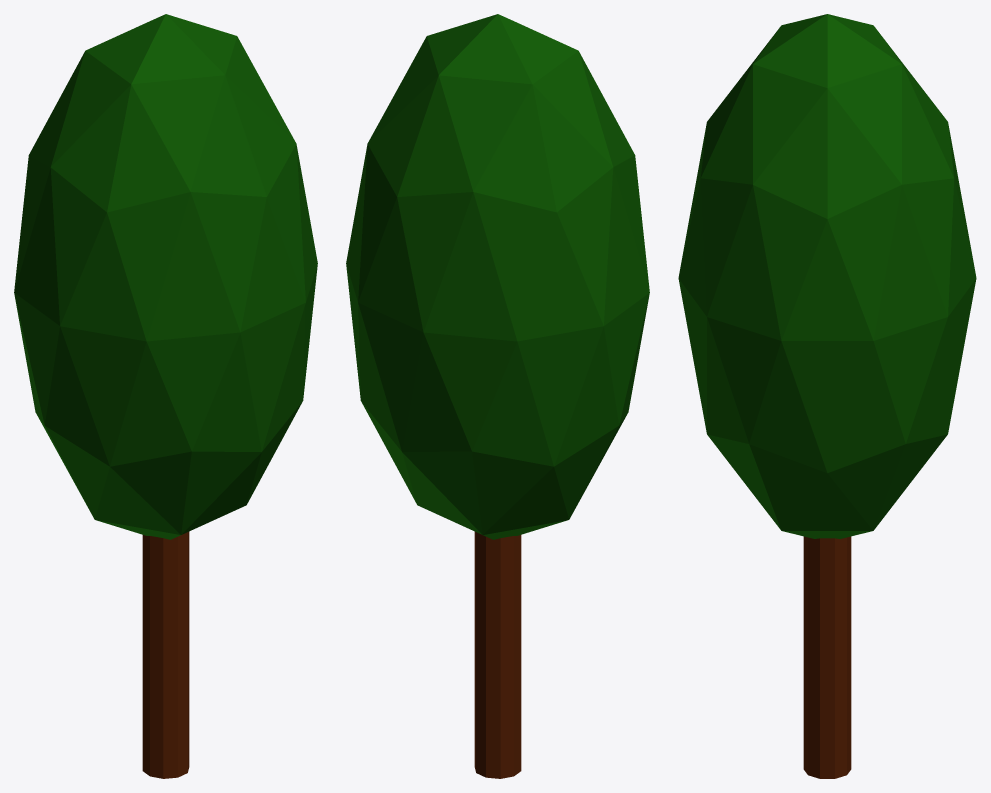
Rendered from tree_1.fbx.
3 views of the same model, side by side, from view 1: azimuth 30°, elevation 25°; view 2: azimuth 150°, elevation 25°; view 3: azimuth 270°, elevation 25° (orthographic).
Parts seen in each view (by area): view 1: Cylinder; view 2: Cylinder; view 3: Cylinder.
Part boxes in pixels (x1,y1,x2,y2): Cylinder: (14,14,317,778); Cylinder: (346,14,649,778); Cylinder: (678,14,976,778).
Size of the model in its own units: 207 by 579 by 207.
